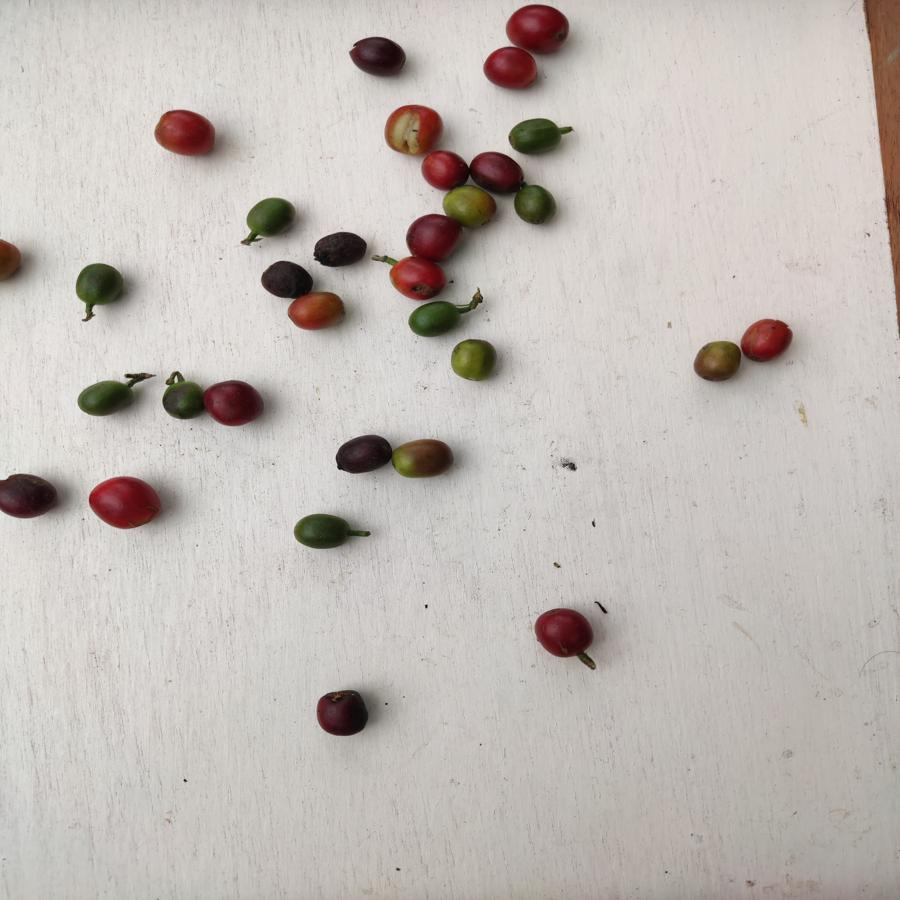Inmaduro: (74, 377, 132, 418), (73, 262, 125, 306), (246, 195, 297, 238), (409, 298, 462, 338), (158, 375, 202, 423), (292, 514, 352, 549), (507, 117, 562, 154), (511, 184, 557, 226)
Maduro: (84, 475, 163, 534), (533, 606, 597, 664), (153, 109, 220, 159), (507, 2, 573, 51), (385, 102, 442, 150), (482, 45, 539, 90), (388, 256, 447, 299), (741, 316, 793, 362), (418, 148, 470, 188)
Pinton: (390, 436, 459, 480), (287, 290, 348, 329), (449, 337, 502, 381), (444, 186, 499, 228), (694, 338, 741, 385)
Sobremaduro: (200, 379, 265, 431), (312, 683, 372, 739), (344, 30, 408, 78), (1, 472, 59, 523), (470, 146, 529, 194), (404, 214, 458, 262), (331, 433, 391, 473), (312, 230, 368, 269), (259, 259, 312, 299)
